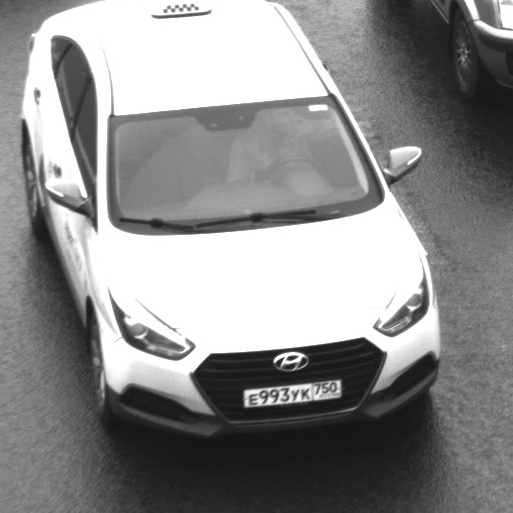plate: (233, 370, 350, 416)
